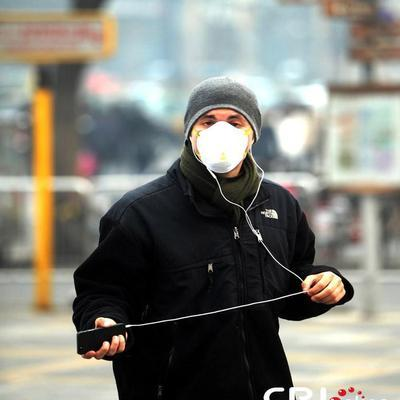Face_Mask_Found: (189, 121, 256, 174)
